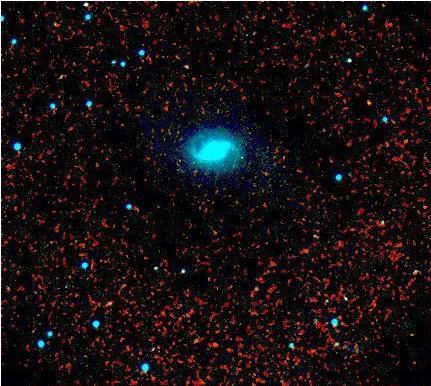star: (357, 90, 387, 120)
